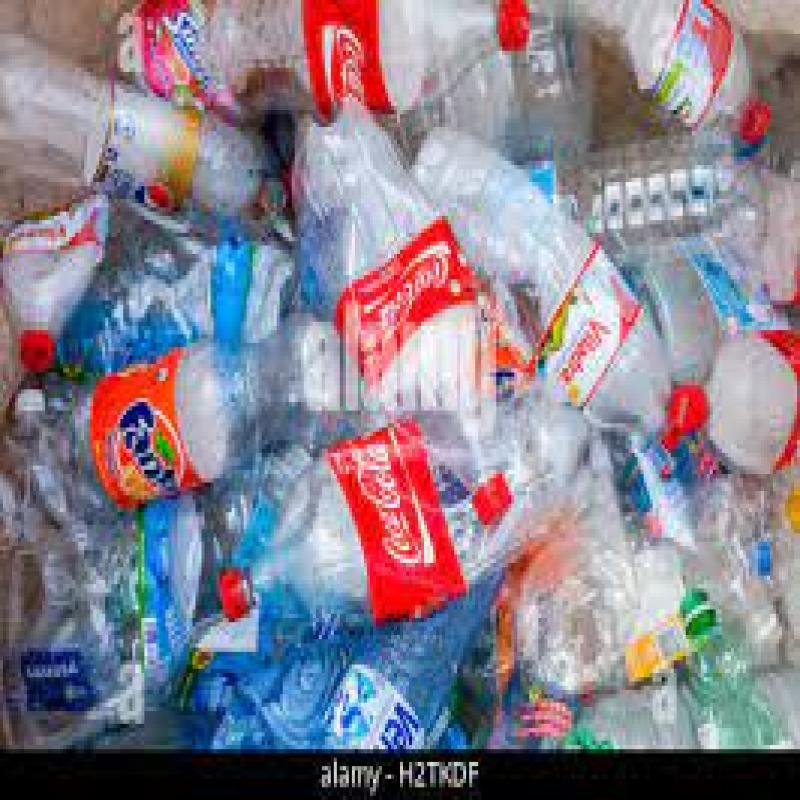botella: (408, 114, 684, 463), (288, 95, 509, 524), (218, 385, 574, 627), (59, 302, 370, 502), (0, 17, 282, 220), (253, 0, 541, 126), (550, 0, 780, 148), (669, 304, 800, 477), (0, 193, 114, 370), (677, 584, 793, 750), (113, 1, 263, 107)
